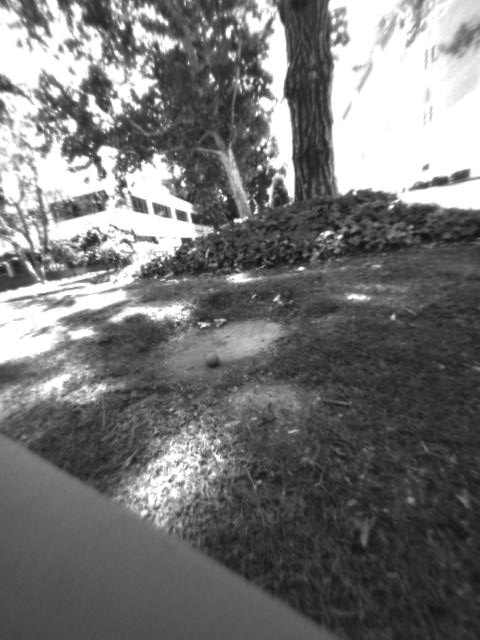dogtoy: (195, 343, 230, 374)
